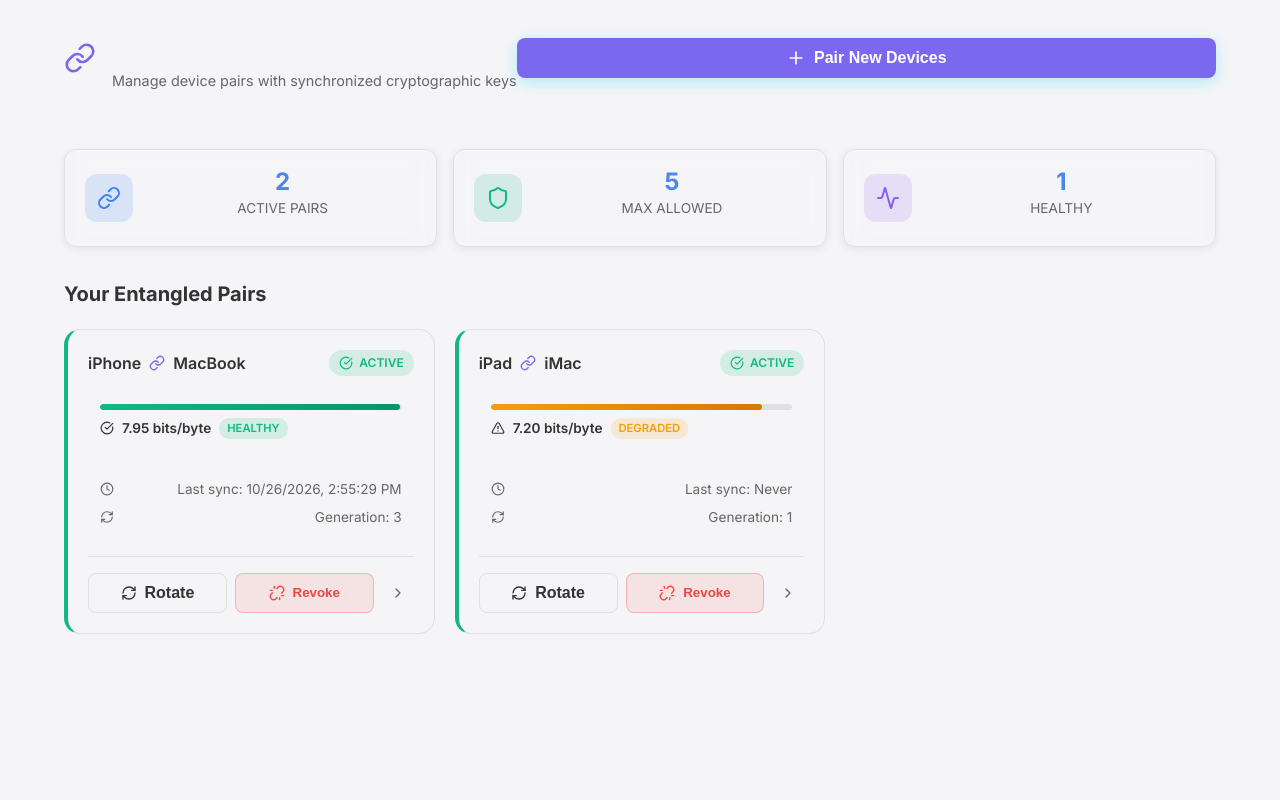
Test case: EntangledDeviceManager › shows revoke modal when revoke clicked
Expected: the text "iPhone" is shown, [88,351,141,375]
Click the button "Revoke" below "10/26/2026, 2:55:29 PM": (304,593) [235,573,374,613]
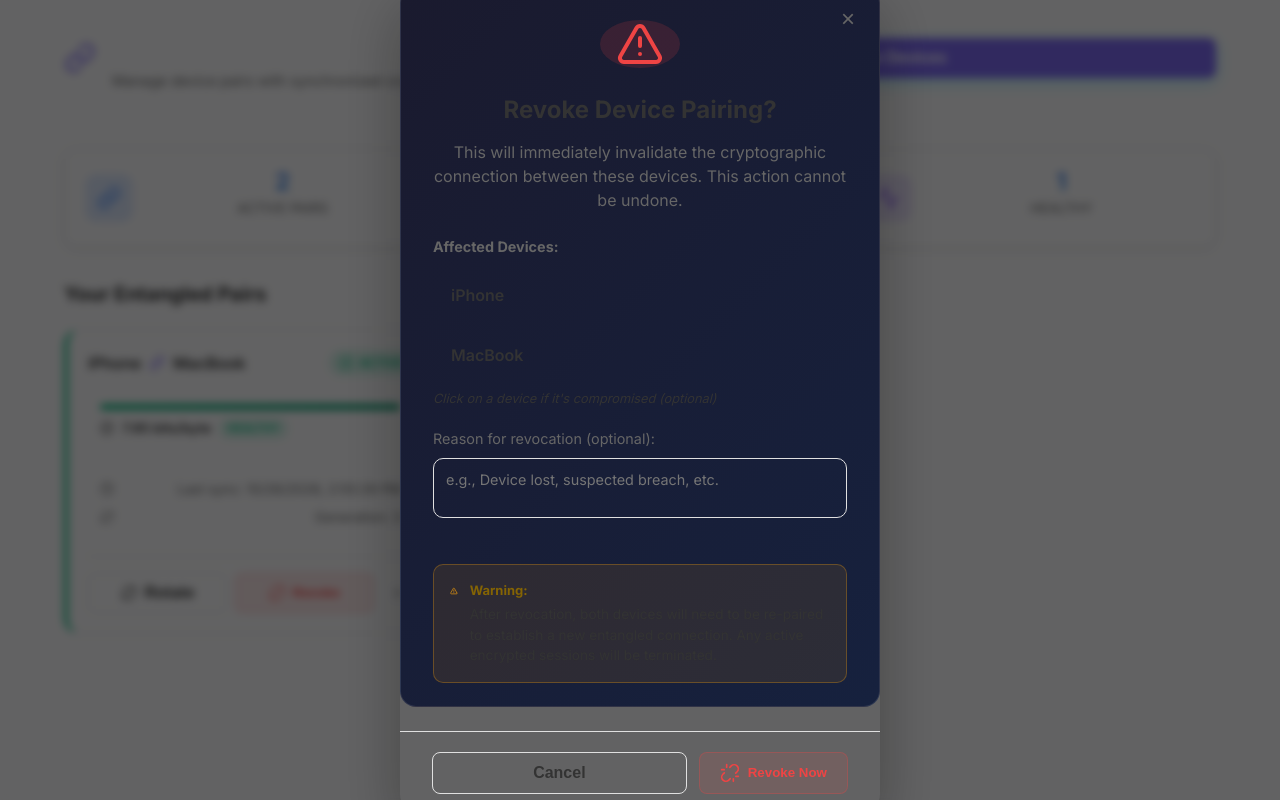
Result: the heading "Revoke Device Pairing?" is shown at [503,94,777,124]
